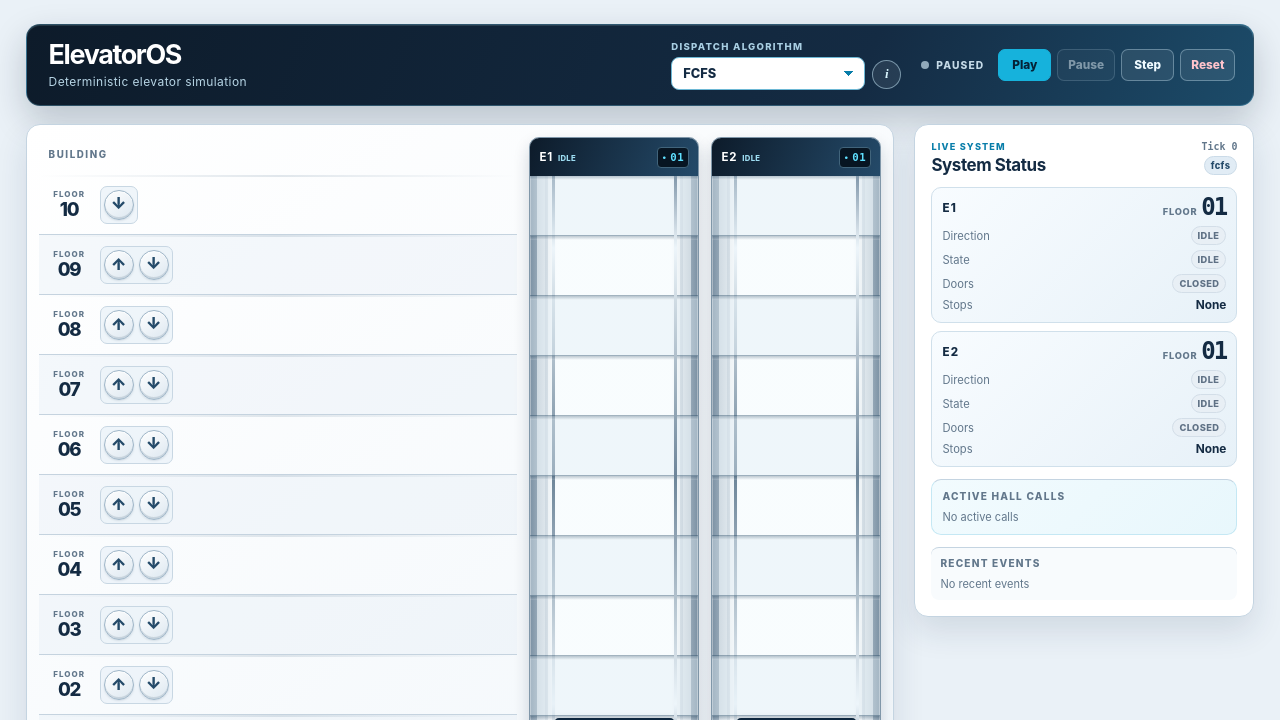
it: ElevatorOS visualizer › steps the simulation exactly once
The image size is (1280, 720).
Click the button "Step": x=1148, y=65 x1=1121 y1=49 x2=1174 y2=81
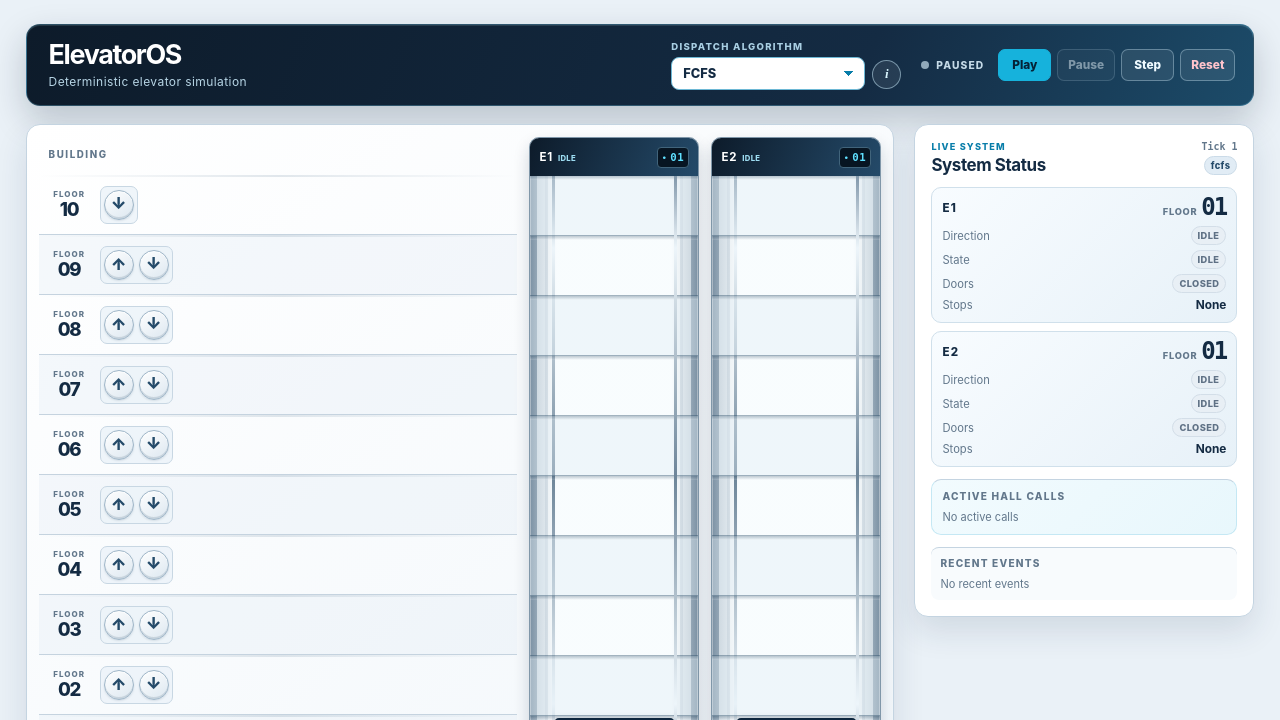
Expected: the text "Paused" is shown, x1=921 y1=59 x2=984 y2=71
Expected: the text "Tick 1" is shown, x1=1202 y1=141 x2=1237 y2=152
